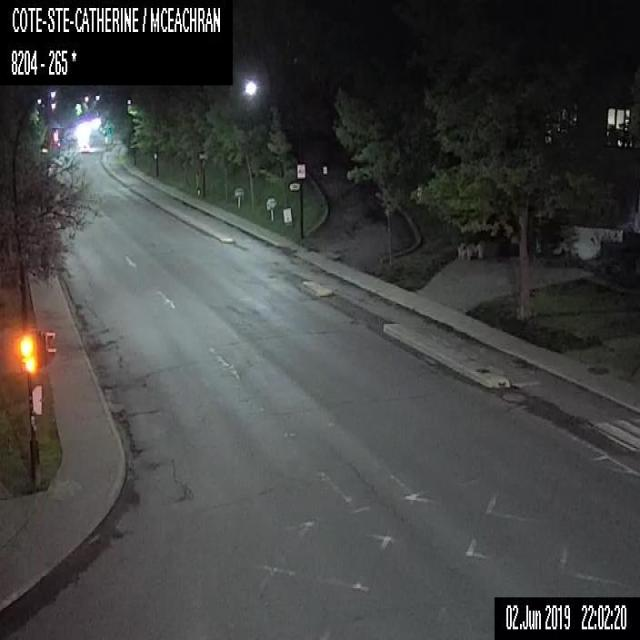vehicle: (80, 141, 90, 151)
